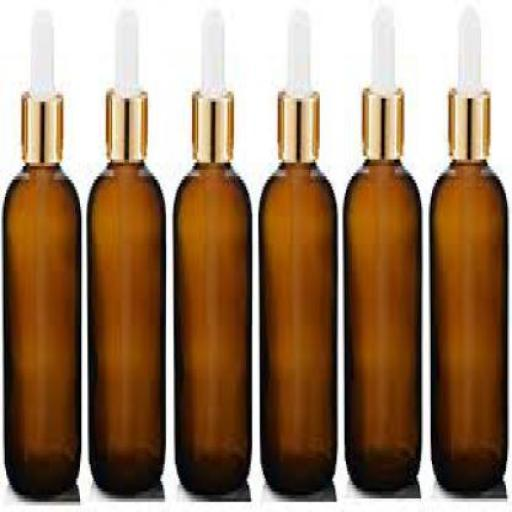glass: (172, 159, 252, 492), (84, 156, 164, 488), (427, 156, 506, 488), (258, 156, 335, 492), (341, 159, 420, 485), (2, 159, 78, 488)
metal: (275, 82, 318, 162), (104, 82, 146, 162), (189, 84, 231, 160), (360, 82, 402, 156), (446, 85, 488, 156), (20, 88, 62, 156)
plastic: (284, 3, 309, 92), (369, 7, 394, 88), (200, 6, 223, 92), (29, 7, 51, 95), (115, 10, 137, 92), (458, 4, 480, 85)
